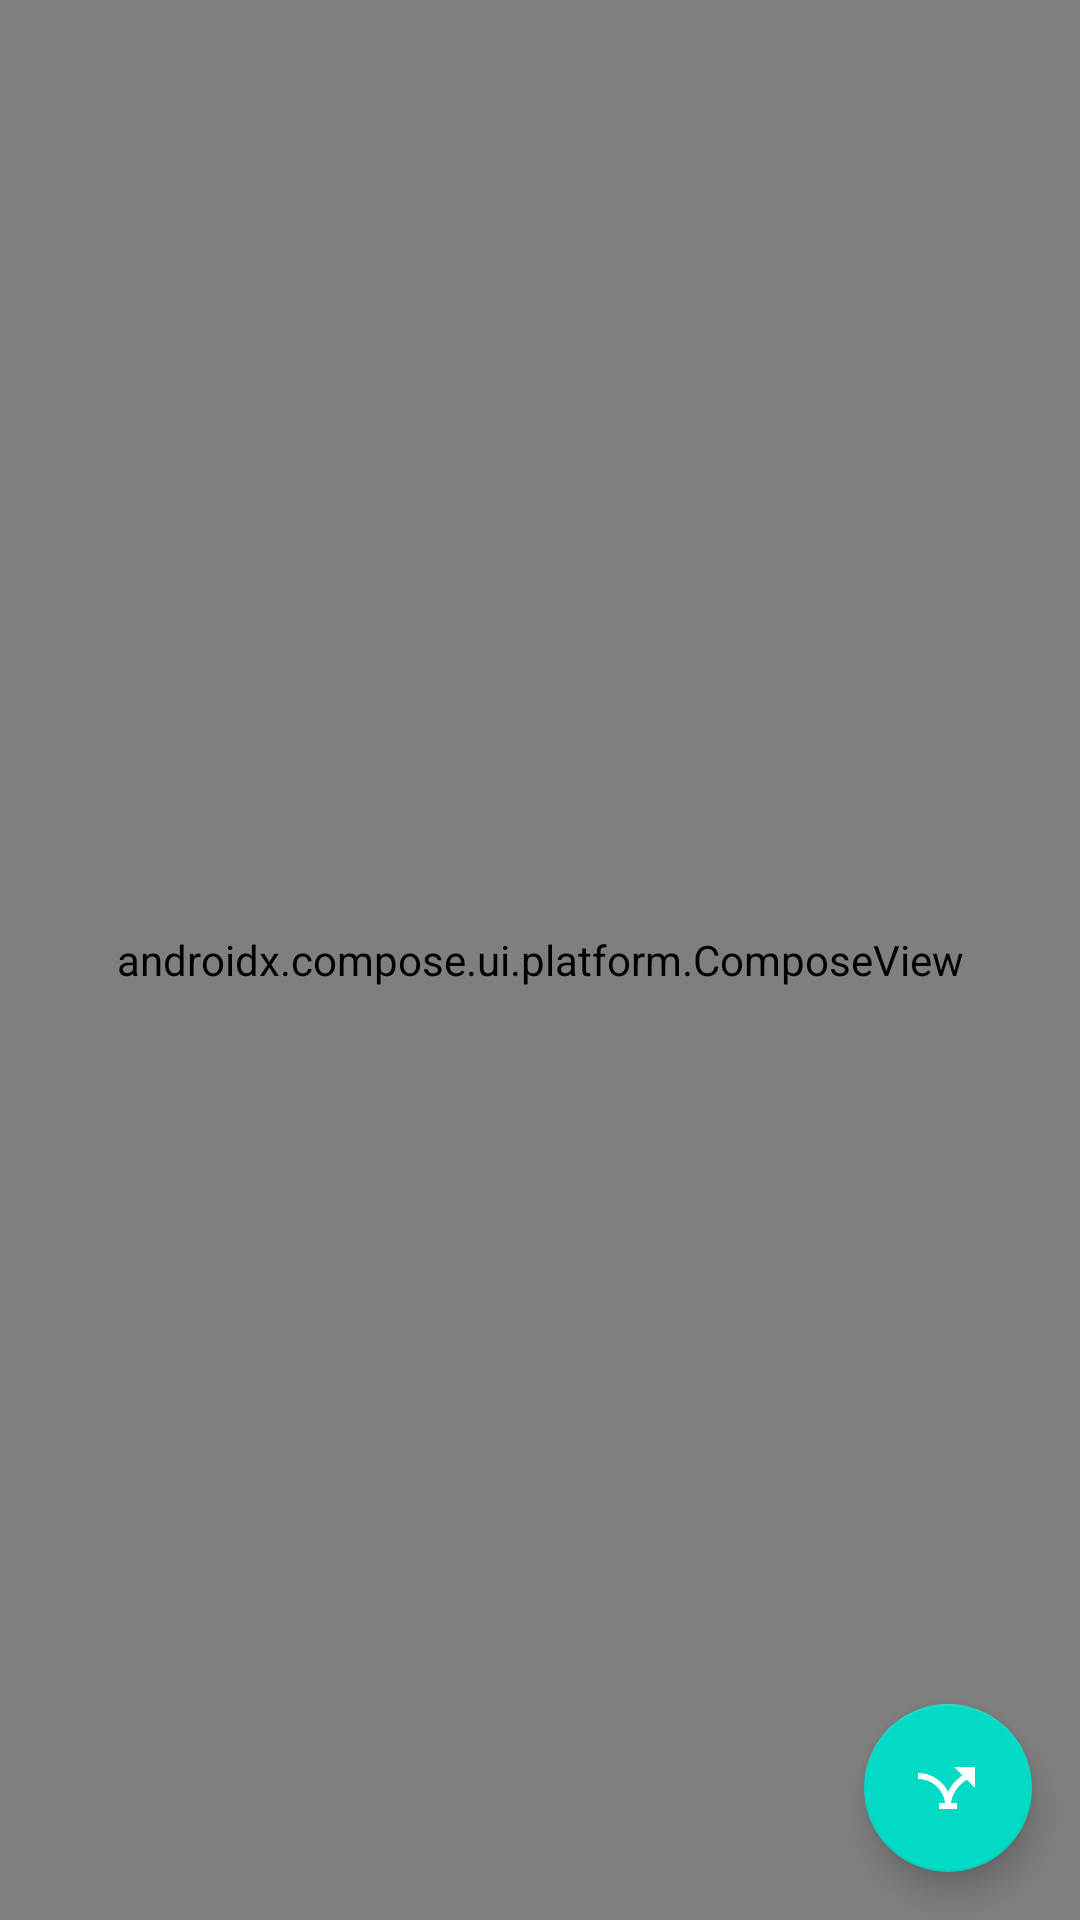

Icons on this 1080x1920 Android screen, each with the point to tap as (x=x, y=y):
Visiting Routes: (x=948, y=1788)
